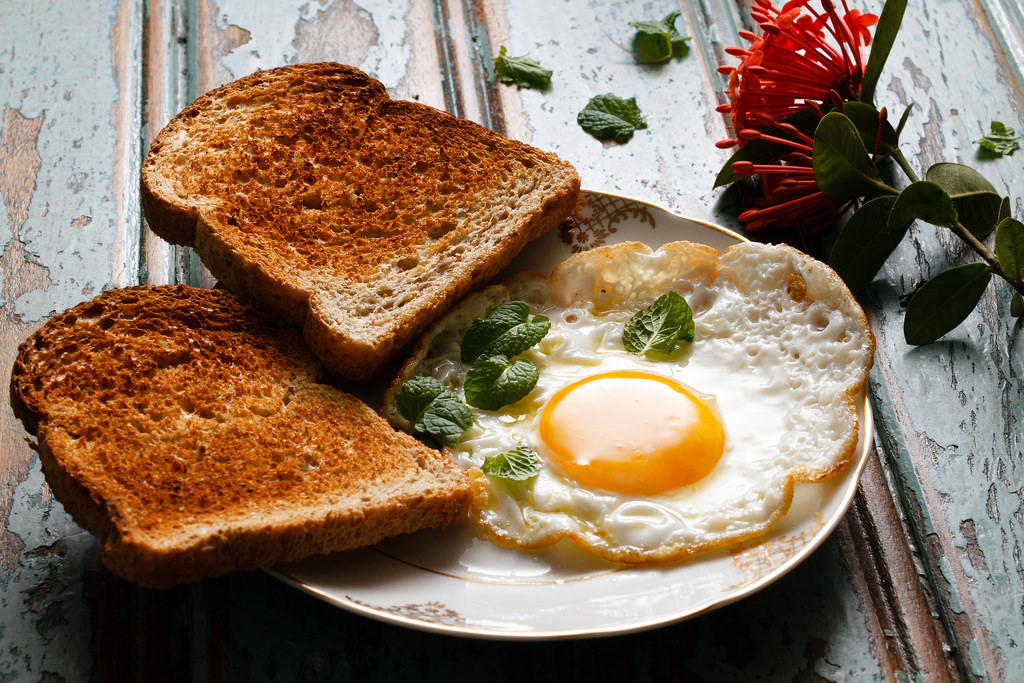fried egg: (514, 302, 778, 559)
slice of bread: (175, 84, 450, 315), (86, 343, 342, 538)
